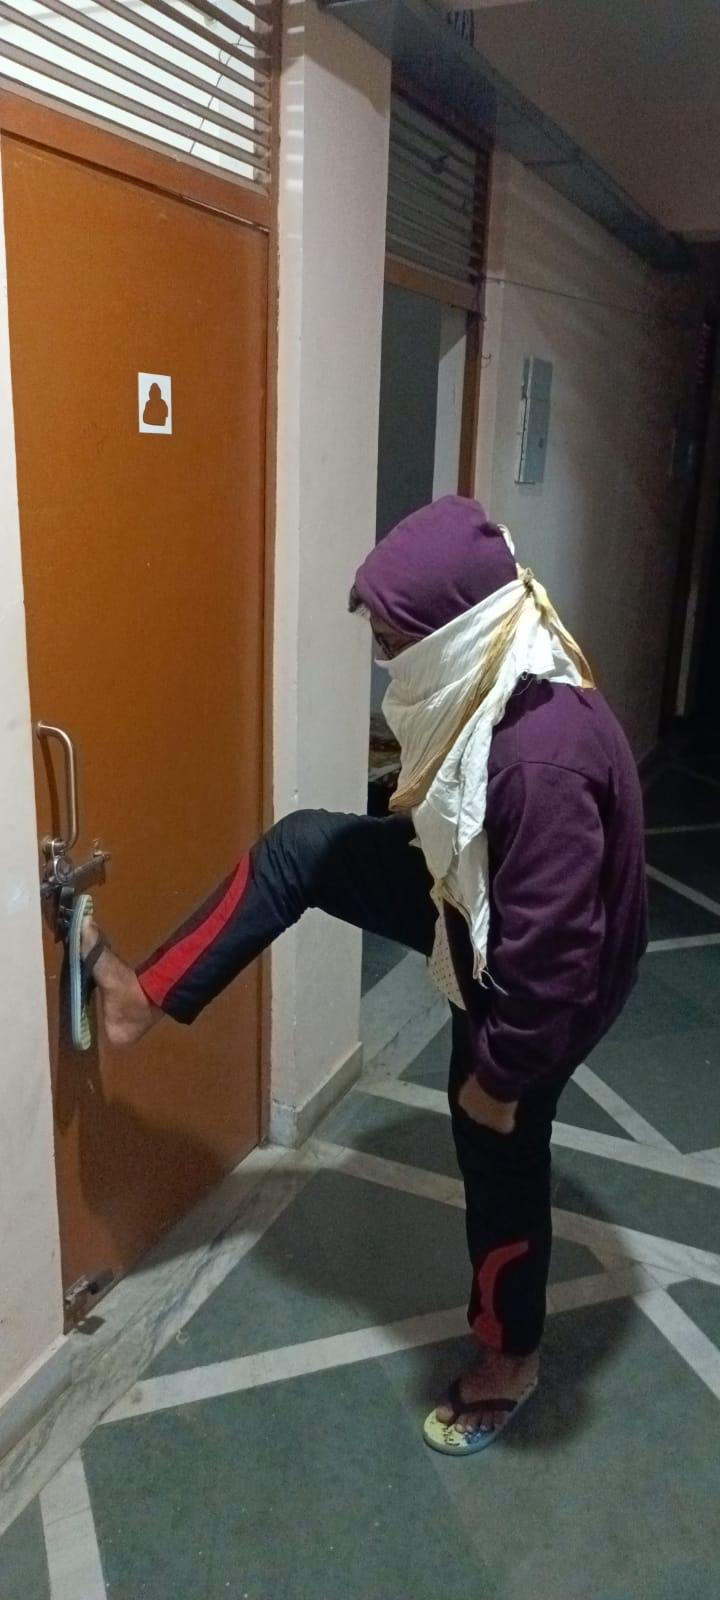suspicion: (5, 480, 695, 1465), (195, 450, 630, 1590)
